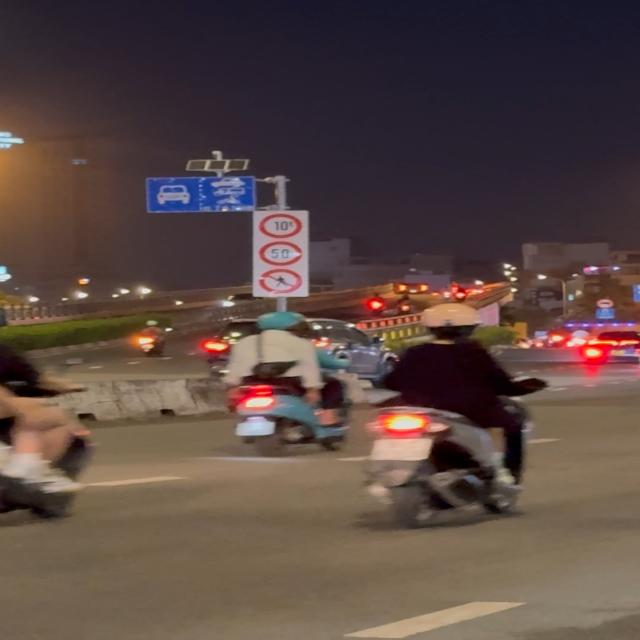Bien bao cam nguoi di bo: (260, 268, 306, 294)
Bien bao toc do toi da cho phep: (255, 240, 306, 268)
